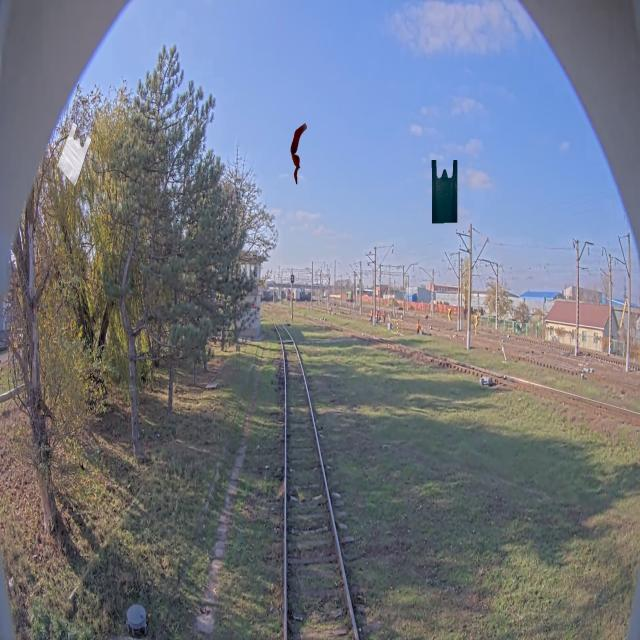floating object: (290, 120, 307, 184)
plastic bag: (56, 122, 92, 186), (432, 160, 457, 223)
